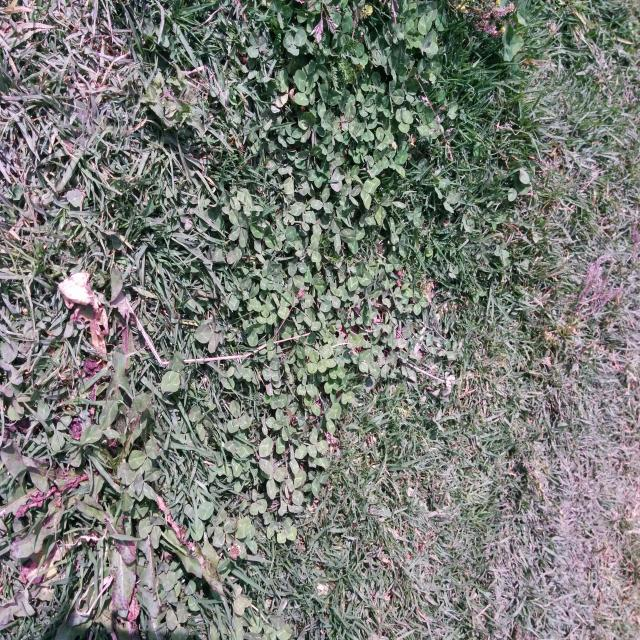Four Leaf Clover: (228, 209, 250, 247)
